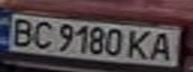0: (103, 26, 127, 57)
1: (72, 22, 90, 55)
8: (87, 25, 109, 56)
9: (54, 20, 75, 53)
A: (145, 29, 181, 62)
B: (3, 16, 39, 47)
C: (27, 18, 57, 51)
K: (124, 28, 157, 61)
